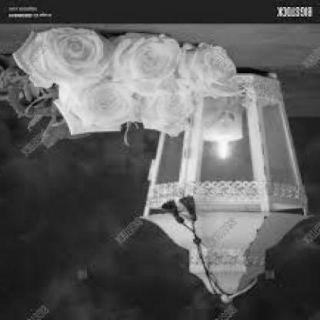Fire: (207, 129, 239, 170)
